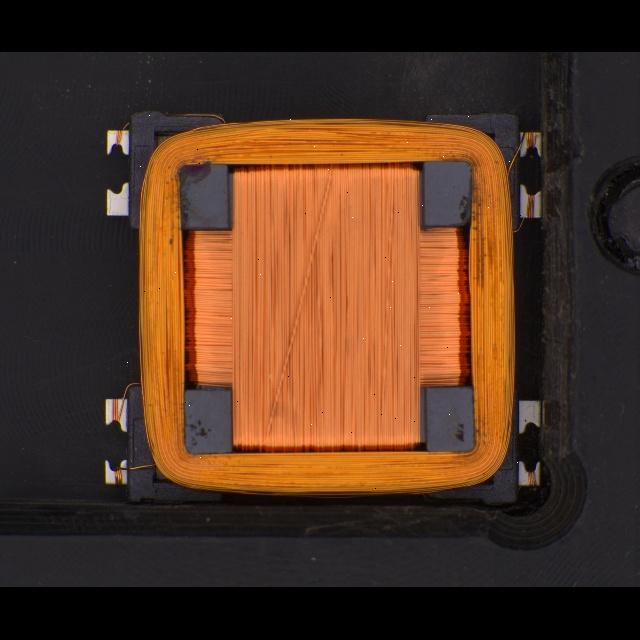Winding_Z: (125, 112, 521, 499)
